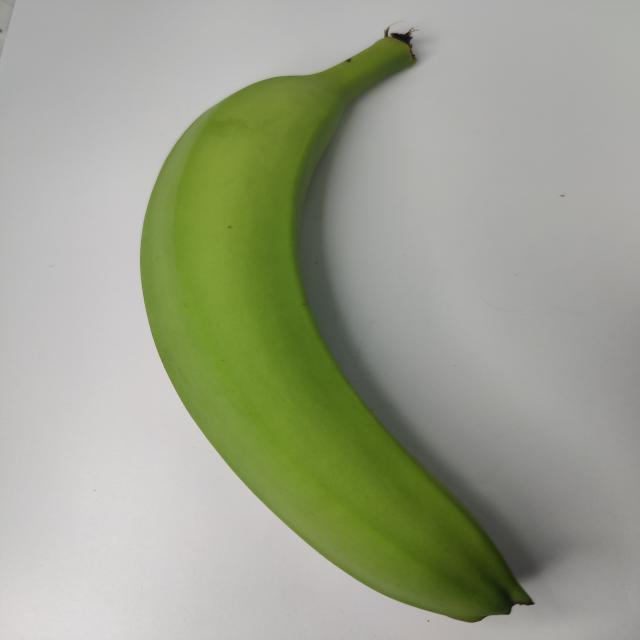raw: (83, 17, 556, 630)
